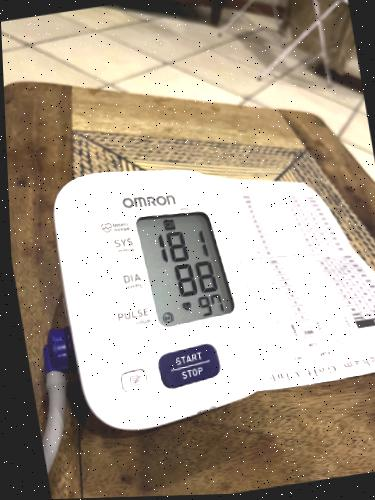bpm: (130, 196, 237, 330)
